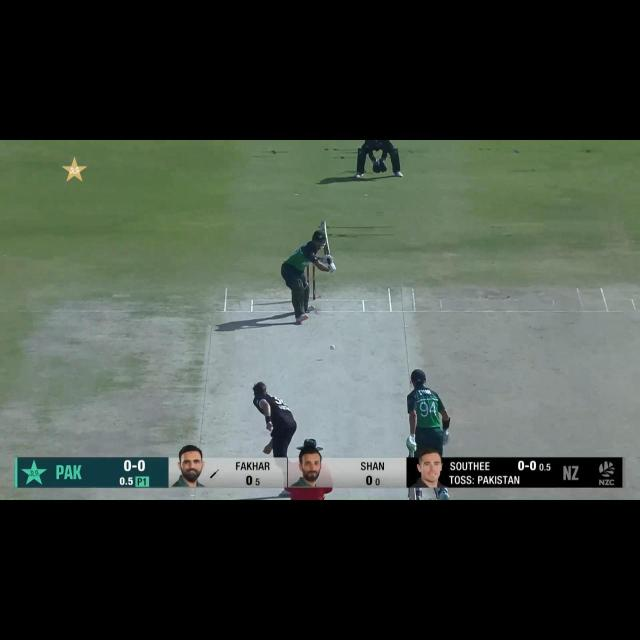bat: (319, 221, 331, 255)
toe: (410, 487, 416, 502), (319, 221, 327, 228)
